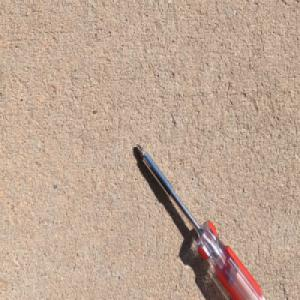Screwdriver: (135, 141, 267, 300)
